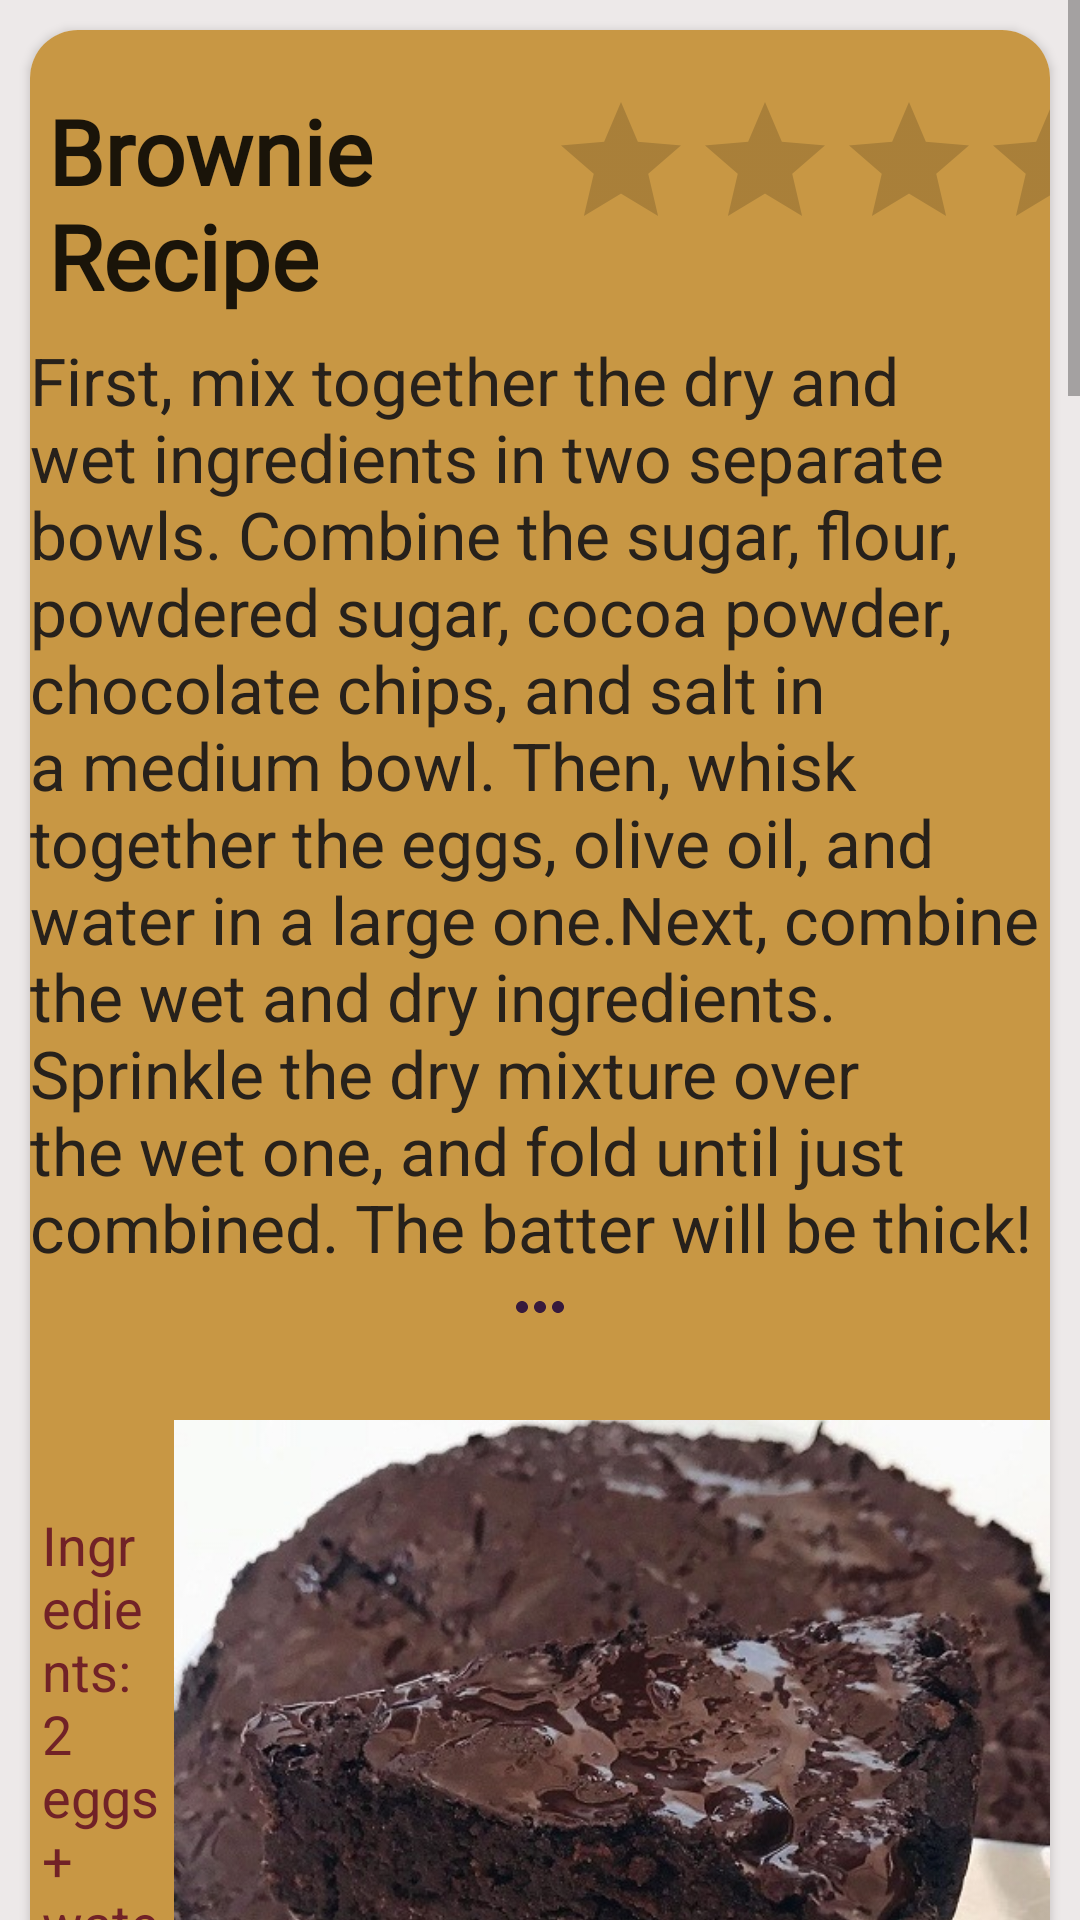

Icons on this 1080w x 1920h Android screen, each with its box as (x1, y1, x2, y2):
more horiz: (516, 1301, 564, 1313)
